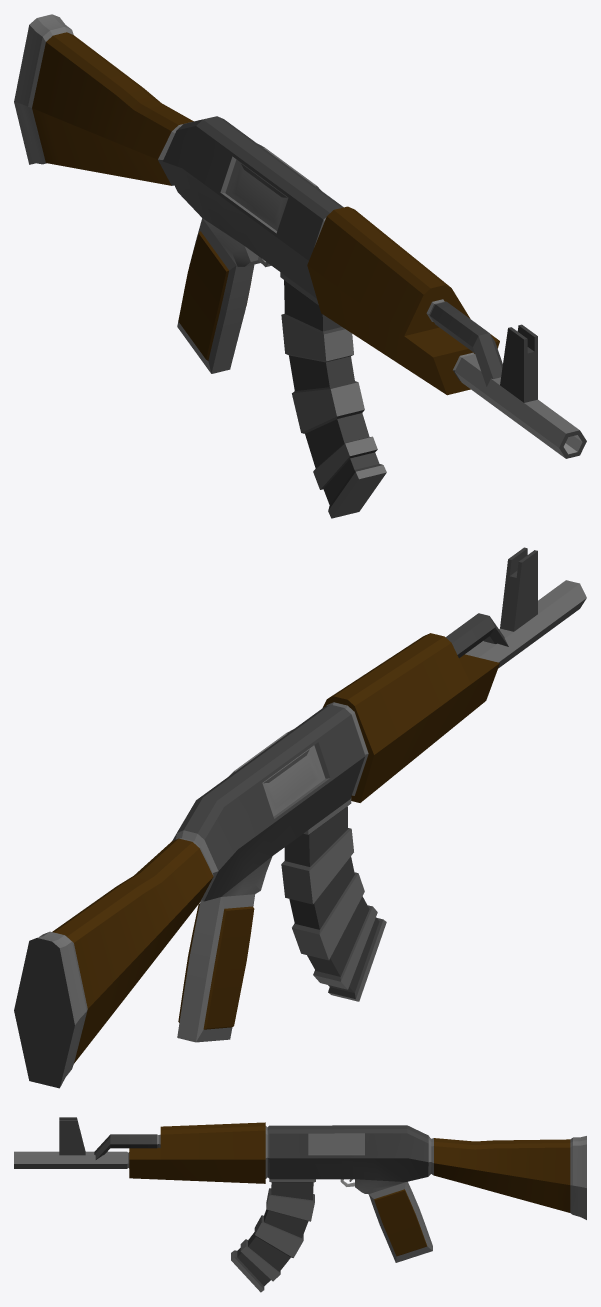
3 views of the same model, one above another, from view 1: azimuth 30°, elevation 25°; view 2: azimuth 150°, elevation 25°; view 3: azimuth 270°, elevation 25° (orthographic). The views are drawn at different scales.
Parts seen in each view (by area): view 1: machine_gun_1; view 2: machine_gun_1; view 3: machine_gun_1.
Part boxes in pixels (box(x1,y1,x2,y2)): machine_gun_1: box(14, 14, 586, 518); machine_gun_1: box(14, 547, 586, 1088); machine_gun_1: box(14, 1117, 586, 1292).
Size of the model in its own units: 19.97 by 89.23 by 273.
Materials: 1 (1 with a texture image).
